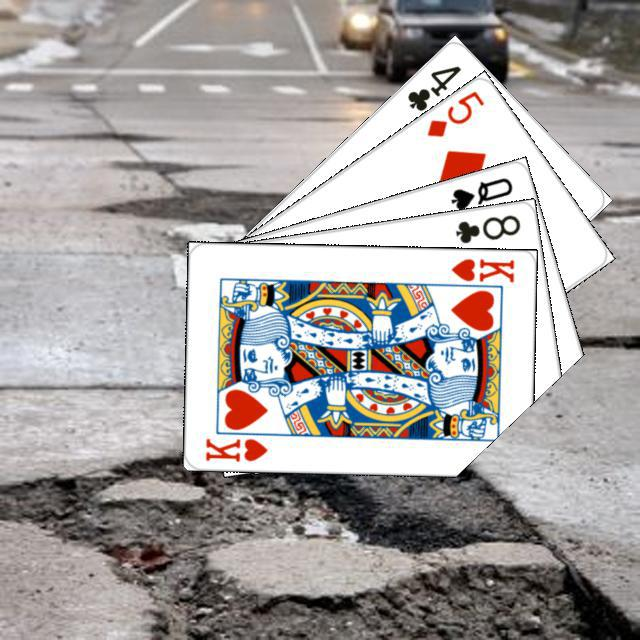4c: (402, 60, 463, 113)
5d: (422, 86, 486, 139)
8c: (450, 209, 522, 245)
Kh: (439, 254, 516, 292), (200, 433, 270, 463)
Qs: (446, 172, 514, 212)
